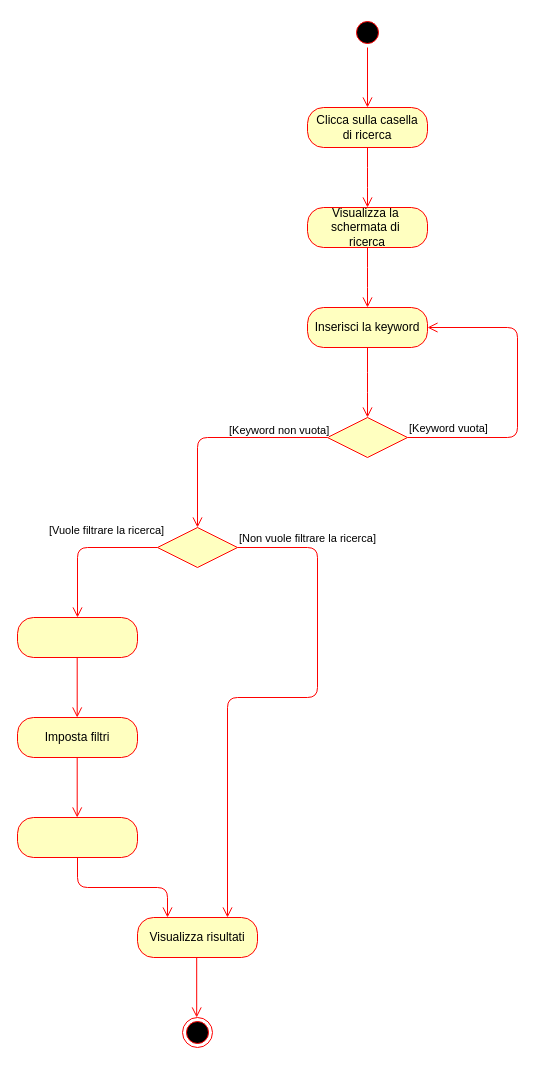
This 545x1065 diagram has some shape labels left out. The centre of each missing label's shape, as x and y in pixels:
Preme pulsante "Fatto": the point at 77,837
Preme pulsante "Filtri": the point at 77,637
